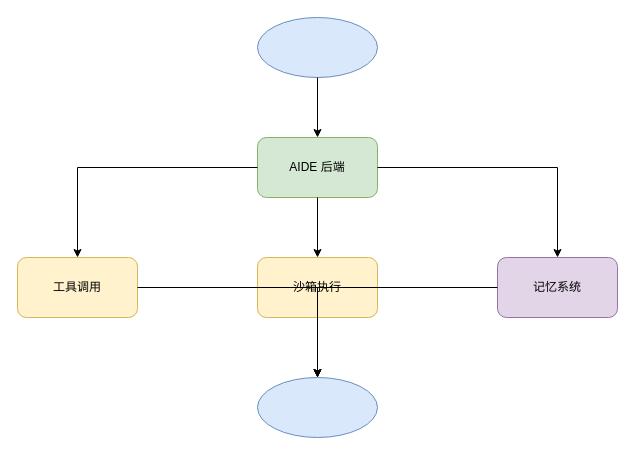
This 635x455 diagram has some shape labels left out. The centre of each missing label's shape, as x and y in pixels:
流式输出: the point at 317,407
用户输入: the point at 317,47
